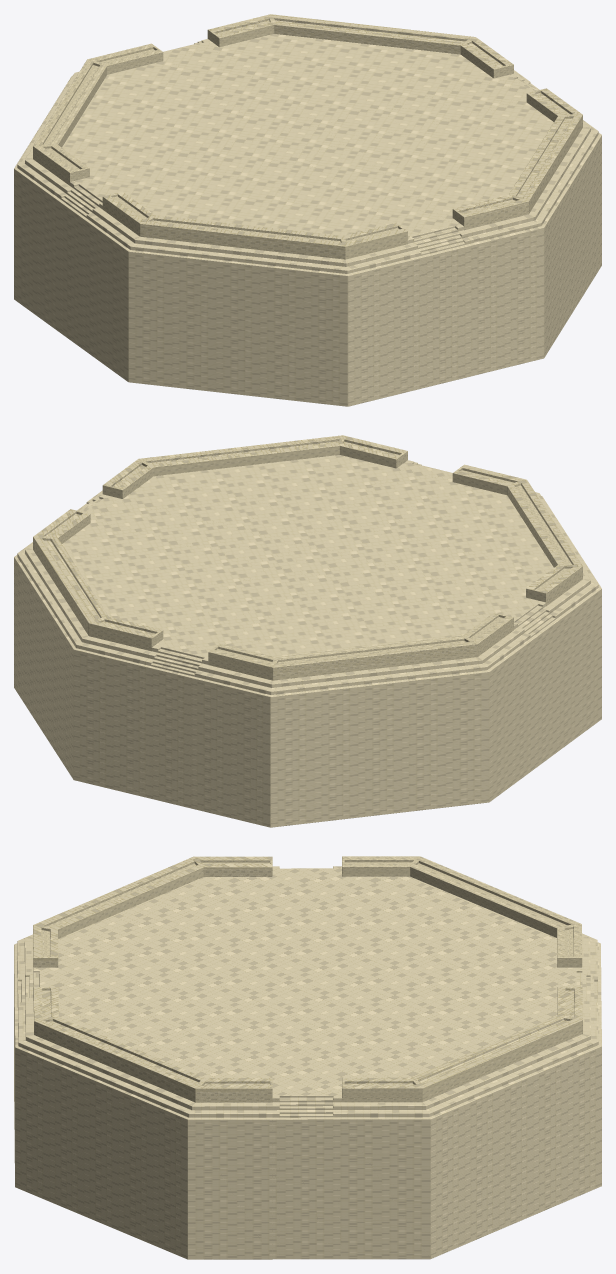
The model's file is Platform_Large.gltf.
The picture shows the model from 3 angles, top to bottom: view 1: azimuth 30°, elevation 25°; view 2: azimuth 150°, elevation 25°; view 3: azimuth 270°, elevation 25°; orthographic projection. The views are drawn at different scales.
Parts seen in each view (by area): view 1: Platform; view 2: Platform; view 3: Platform.
Part boxes in pixels (left/top/right/bottom): Platform: left=14, top=14, right=601, bottom=406; Platform: left=14, top=435, right=601, bottom=827; Platform: left=14, top=856, right=601, bottom=1259.
Bounding box in the file's own units: 54.44 × 16.65 × 54.44.
Materials: 2 (2 with a texture image).
